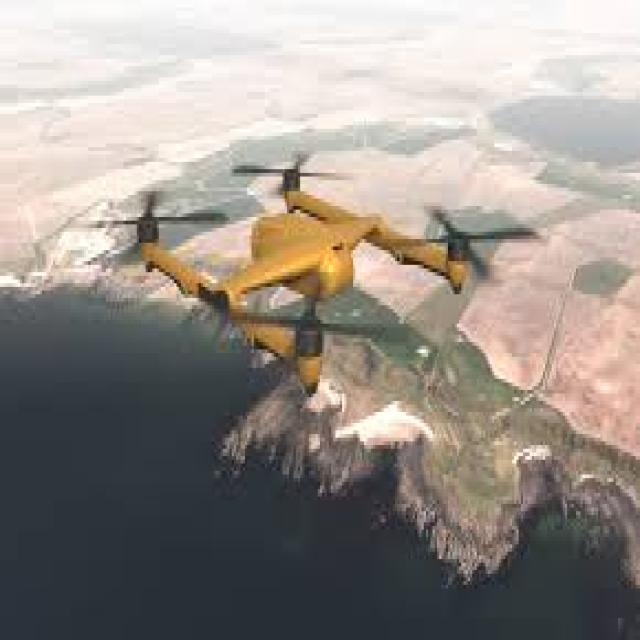drone: (88, 146, 527, 393)
